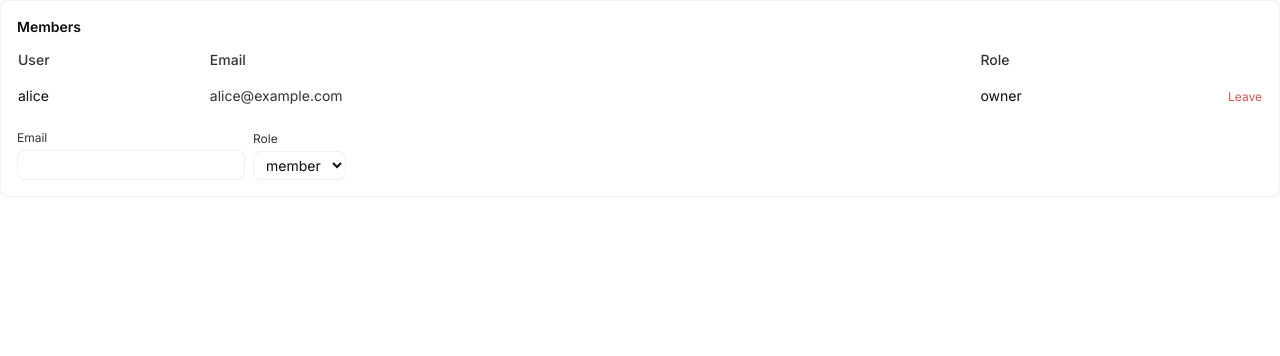
MembersSection › surfaces a 409 from the last-owner guard on self-leave
The width and height of the screenshot is (1280, 356).
Click the button with test id "settings-members-leave": x=1245, y=97 [1228,89,1262,105]
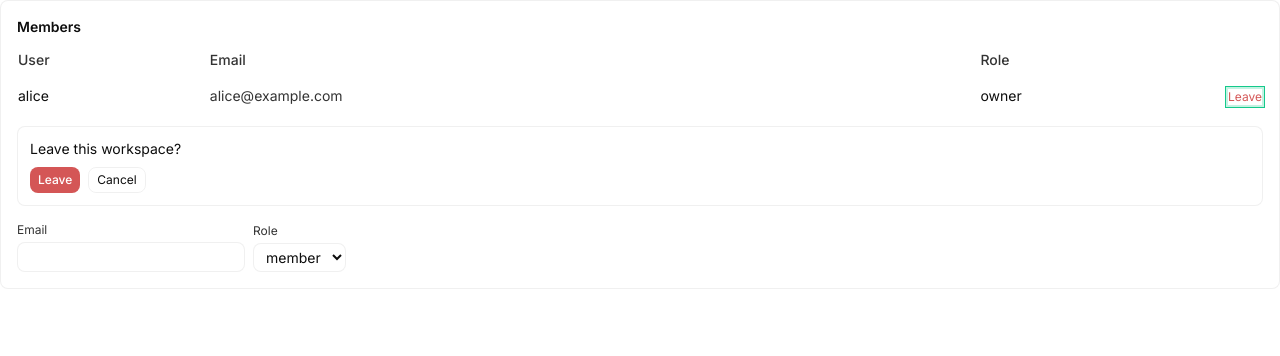
Click the button with test id "settings-members-leave-confirm": x=55, y=180 [30,167,80,193]
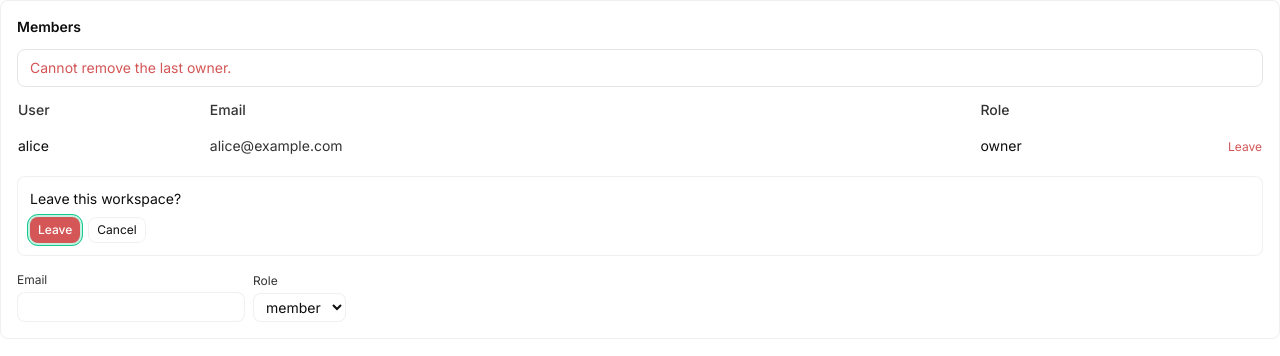
Check: the button with test id "settings-members-leave-confirm" is shown, box [30,217,80,243]
Check: the message with test id "settings-members-action-error" reads "Cannot remove the last owner.", box [30,59,231,76]
